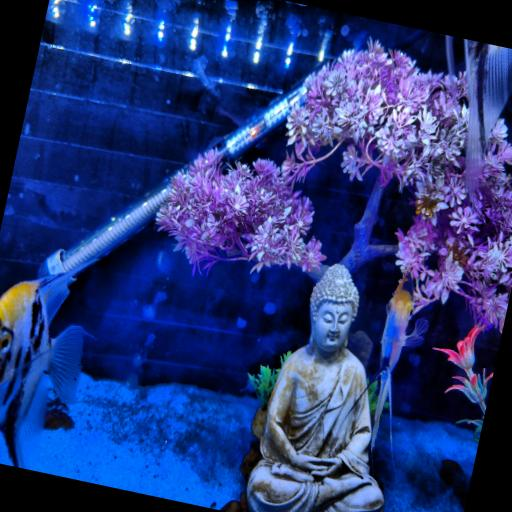Fish: (0, 261, 91, 468), (368, 273, 428, 476), (464, 39, 511, 201)
